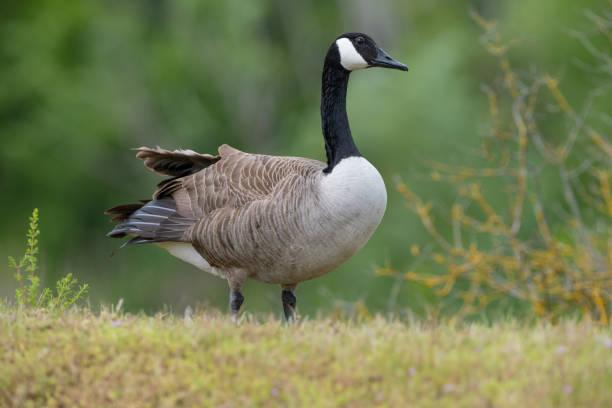Canadian-Goose: (107, 31, 414, 319)
